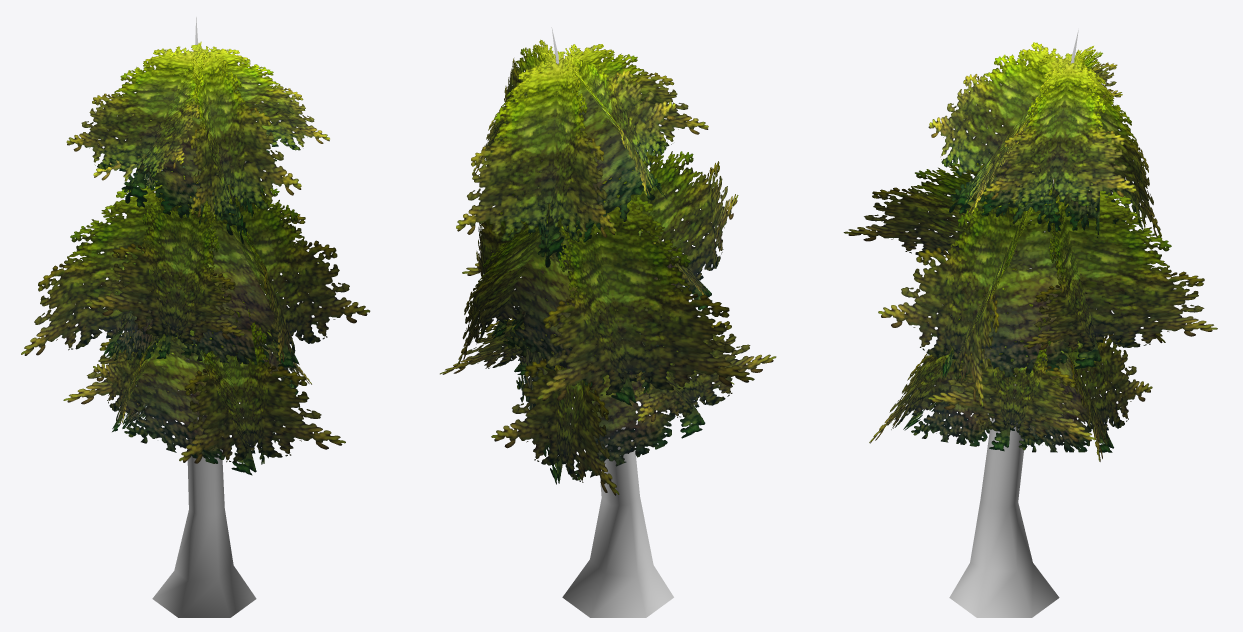
File: tirisfallgladecanopytree04.obj
3 views of the same model, side by side, from view 1: azimuth 30°, elevation 25°; view 2: azimuth 150°, elevation 25°; view 3: azimuth 270°, elevation 25° (orthographic). The views are drawn at different scales.
Parts seen in each view (by area): view 1: TIRISFALLGLADECANOPYTREE041, TIRISFALLGLADECANOPYTREE040; view 2: TIRISFALLGLADECANOPYTREE041, TIRISFALLGLADECANOPYTREE040; view 3: TIRISFALLGLADECANOPYTREE041, TIRISFALLGLADECANOPYTREE040.
Boxes of the visible parts, x1,y1,x2,y2 form: TIRISFALLGLADECANOPYTREE041: (21, 41, 370, 475); TIRISFALLGLADECANOPYTREE040: (152, 17, 256, 617); TIRISFALLGLADECANOPYTREE041: (440, 39, 776, 495); TIRISFALLGLADECANOPYTREE040: (551, 27, 673, 617); TIRISFALLGLADECANOPYTREE041: (843, 42, 1217, 461); TIRISFALLGLADECANOPYTREE040: (949, 30, 1078, 617).
Bounding box in the file's own units: 49.89 × 79.57 × 49.14.
